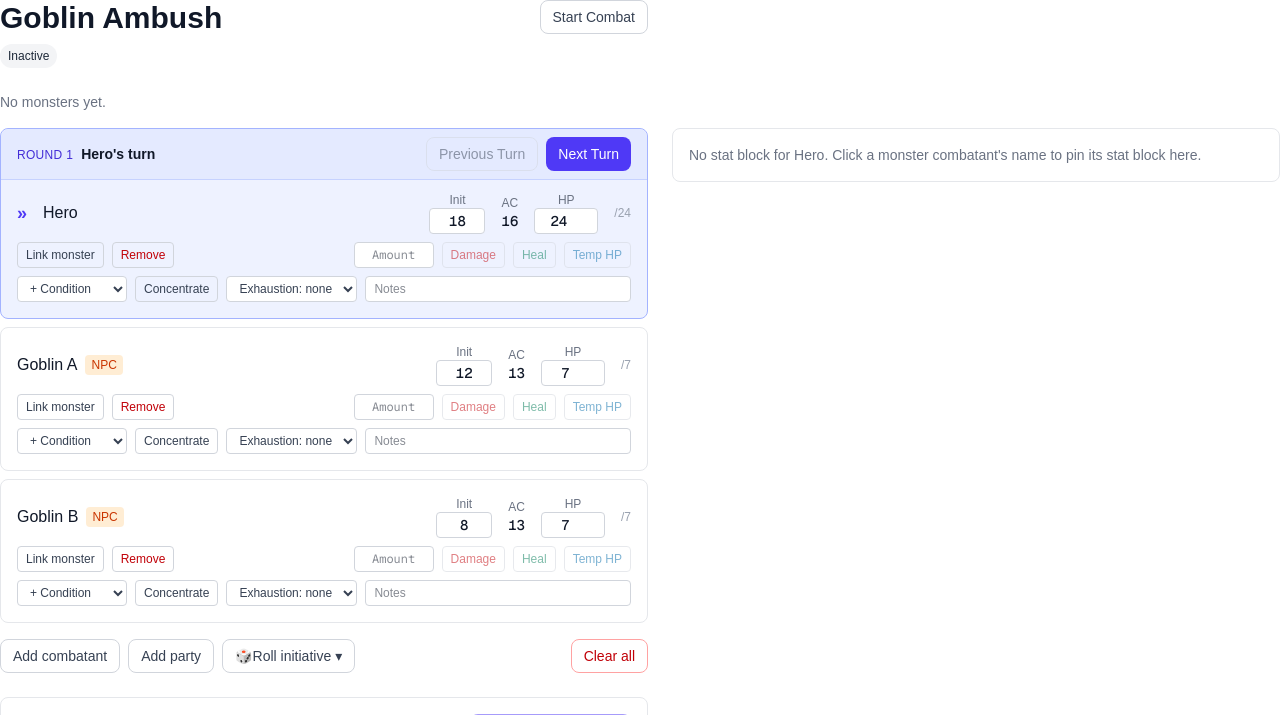
Test: InitiativeTrackerPage › remove combatant + clear all › cancelling the clear-all confirm sends nothing
The image size is (1280, 715).
Expected: the heading "Goblin Ambush" is shown, [0, 0, 222, 36]
Click the button "Clear all" at (609, 656), box [571, 639, 648, 673]
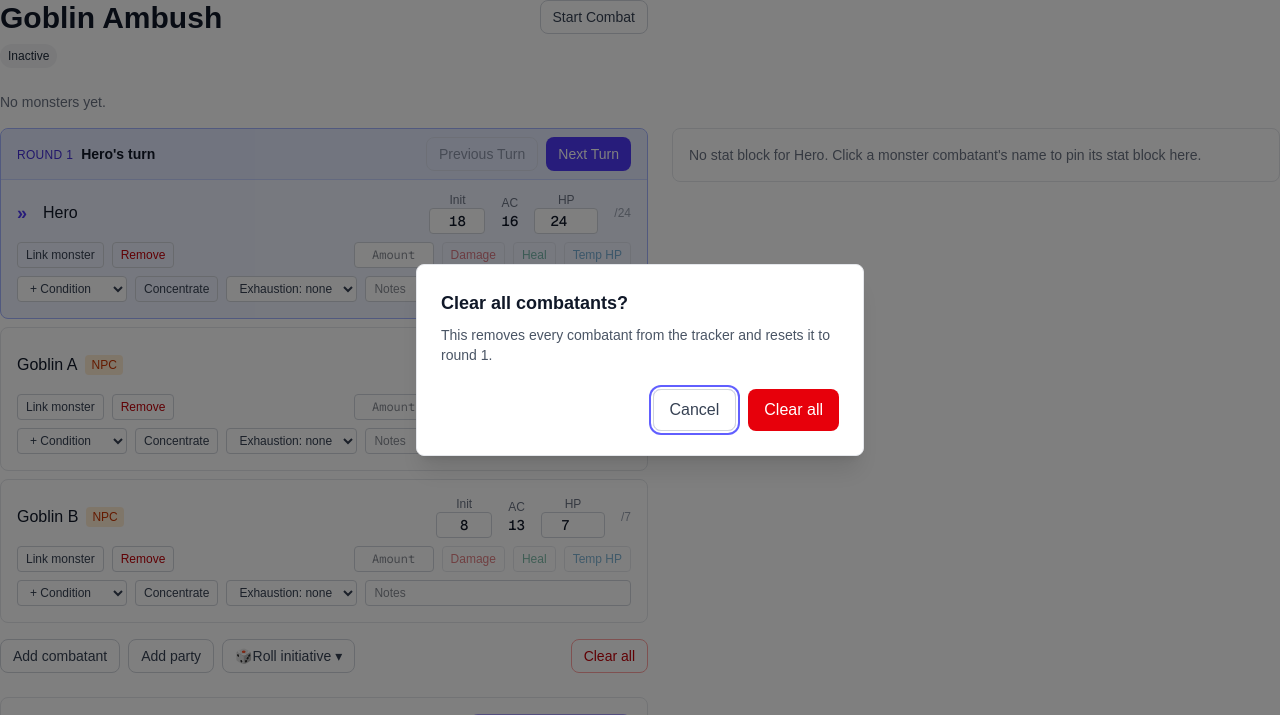
Click the button "Cancel" at (694, 410), box [652, 389, 736, 431]
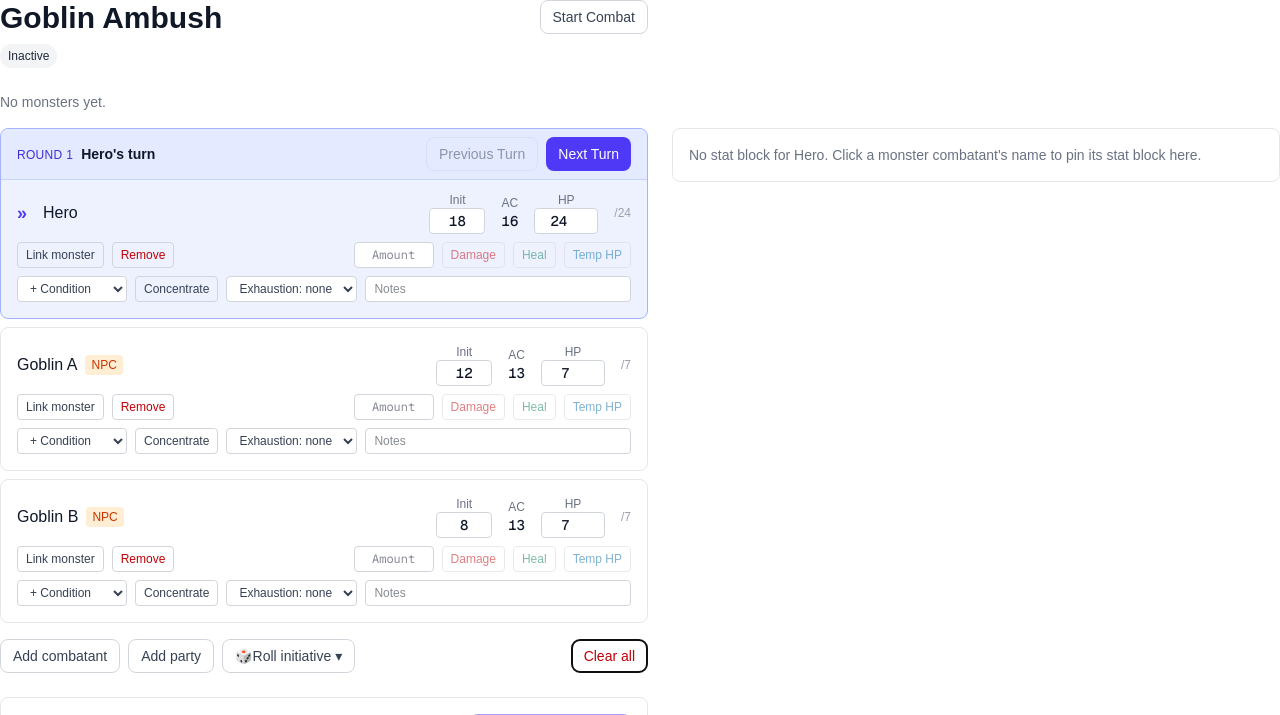
Result: the dialog is gone
